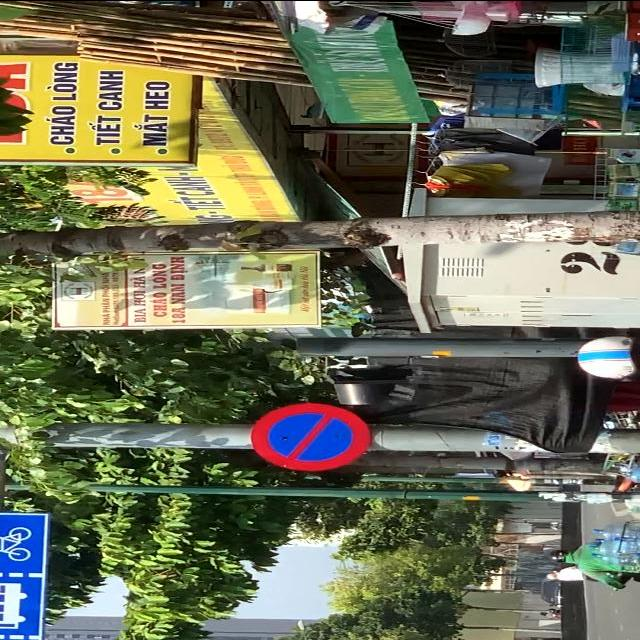P-131a: (249, 403, 369, 471)
